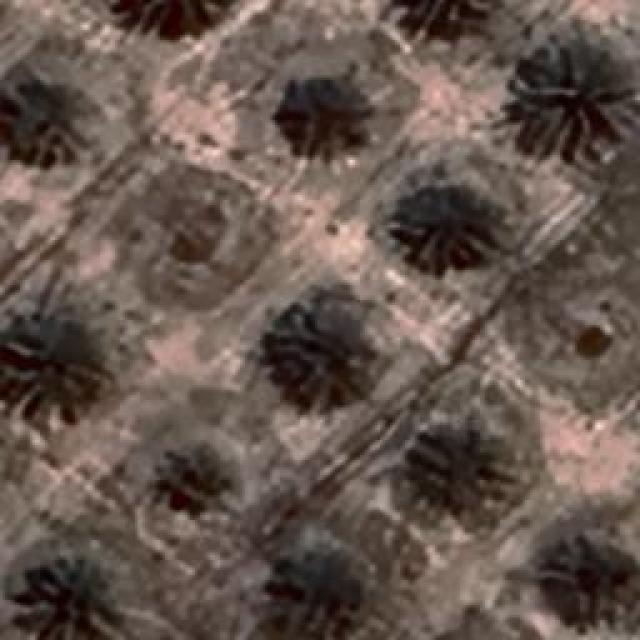PalmTree: (101, 94, 600, 595), (80, 90, 316, 592), (520, 38, 638, 152), (0, 310, 105, 415), (270, 302, 370, 408), (0, 72, 92, 165), (275, 81, 375, 161), (410, 430, 508, 510), (30, 552, 120, 638), (410, 182, 498, 268), (150, 440, 240, 520), (124, 0, 232, 33), (407, 0, 495, 25)
